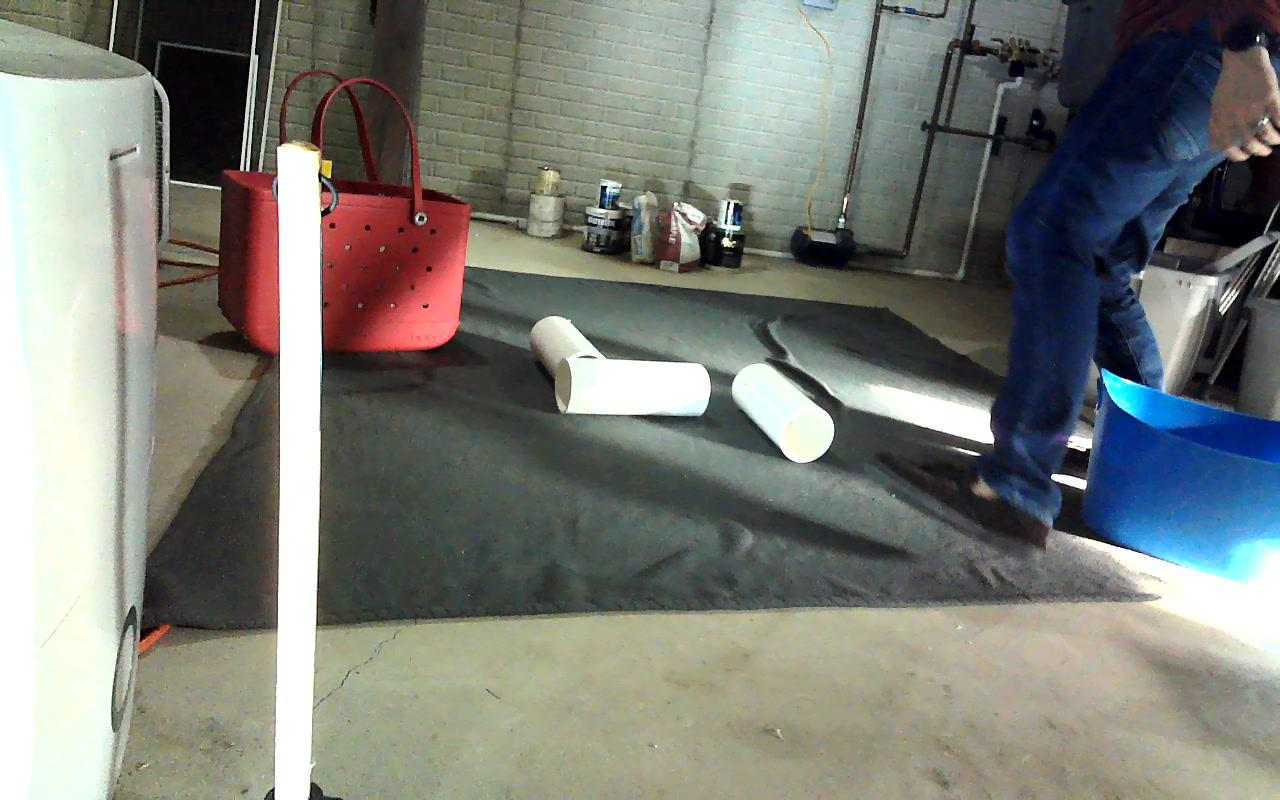coral: (731, 363, 835, 463), (558, 358, 708, 417), (530, 313, 608, 381)
